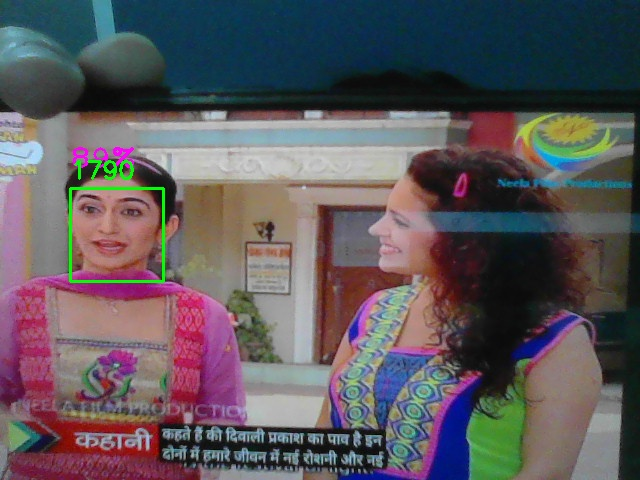fake: (70, 188, 164, 282)
